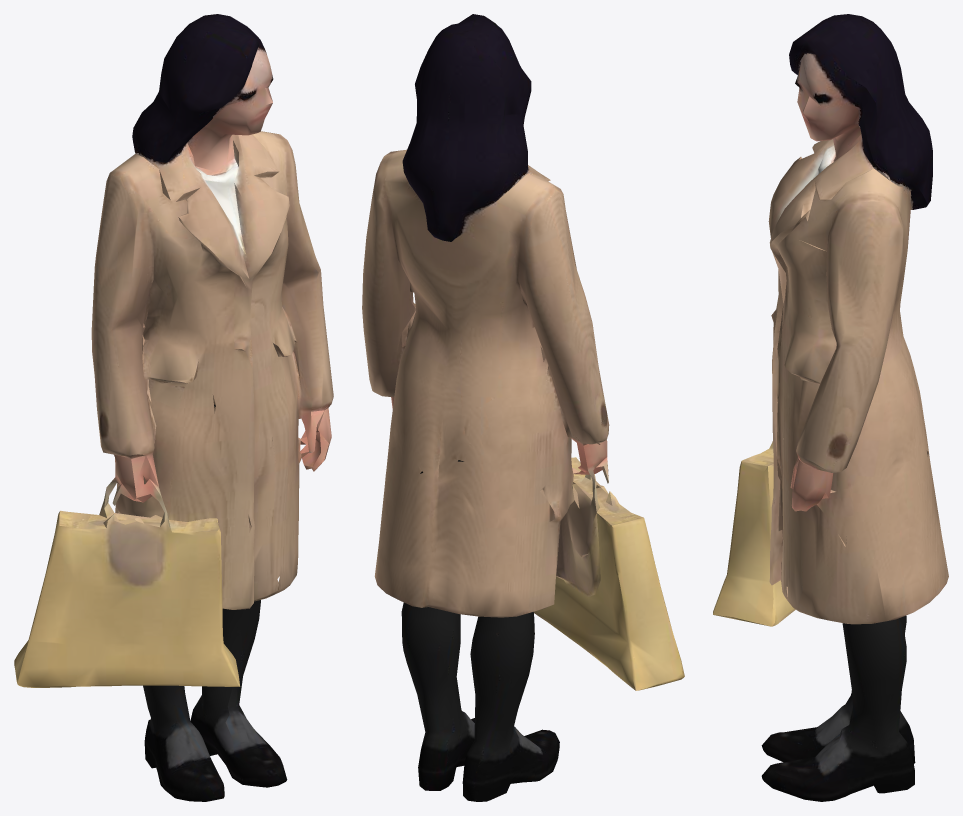
Rendered from npc_shopper.glb.
The picture shows the model from 3 angles, left to right: view 1: azimuth 30°, elevation 25°; view 2: azimuth 150°, elevation 25°; view 3: azimuth 270°, elevation 25°; orthographic projection.
Parts seen in each view (by area): view 1: npc_shopper; view 2: npc_shopper; view 3: npc_shopper.
Part boxes in pixels (x1=…): npc_shopper: x1=14, y1=14, x2=333, y2=801; npc_shopper: x1=362, y1=14, x2=684, y2=801; npc_shopper: x1=713, y1=14, x2=948, y2=801.
Bounding box in the file's own units: 0.7013 × 1.6 × 0.4498.
1 material, 1 textured.
